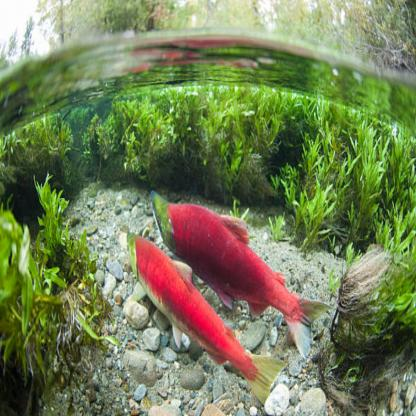sockeye: (128, 225, 270, 392), (154, 200, 305, 338)
sockeye-group: (116, 192, 311, 352)
